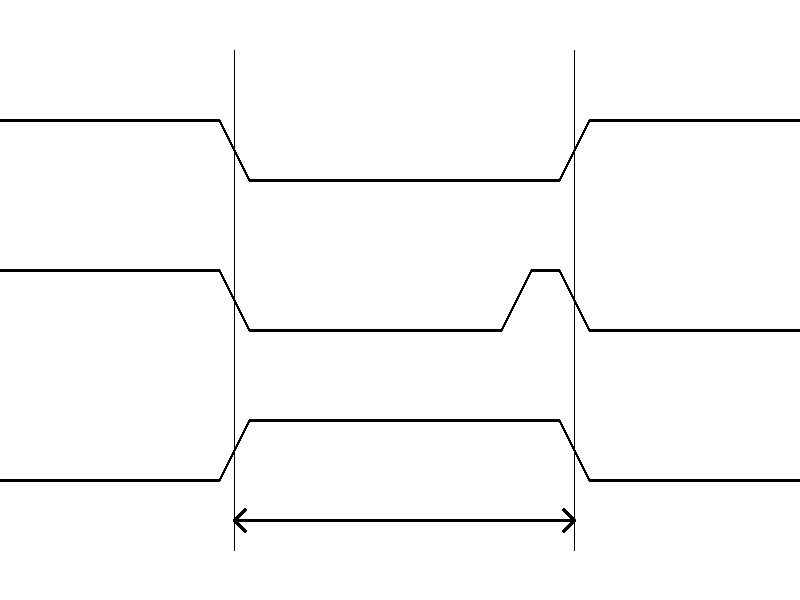double_arrow: (234, 505, 574, 535)
